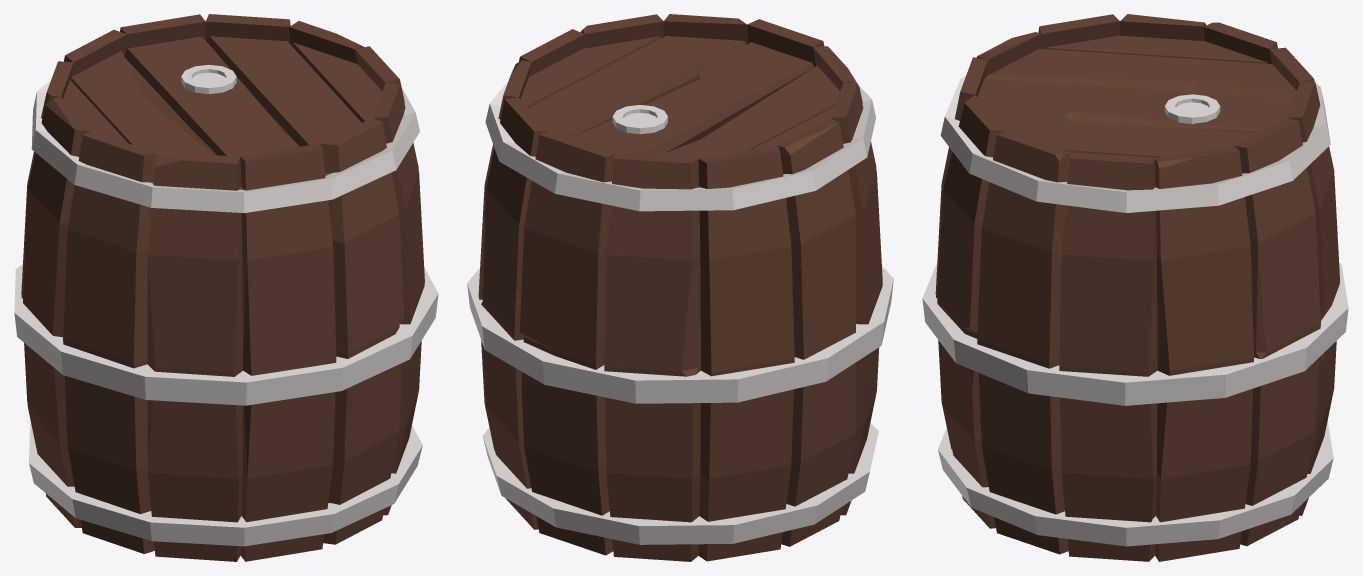
File: Barrel_1.fbx
The picture shows the model from 3 angles, left to right: view 1: azimuth 30°, elevation 25°; view 2: azimuth 150°, elevation 25°; view 3: azimuth 270°, elevation 25°; orthographic projection.
Parts seen in each view (by area): view 1: Barrel_1; view 2: Barrel_1; view 3: Barrel_1.
Boxes of the visible parts, box(x1,y1,x2,y2) form: Barrel_1: box(14, 14, 438, 561); Barrel_1: box(467, 14, 893, 561); Barrel_1: box(922, 14, 1348, 561).
Bounding box in the file's own units: 0.8476 × 0.8793 × 0.8483.
